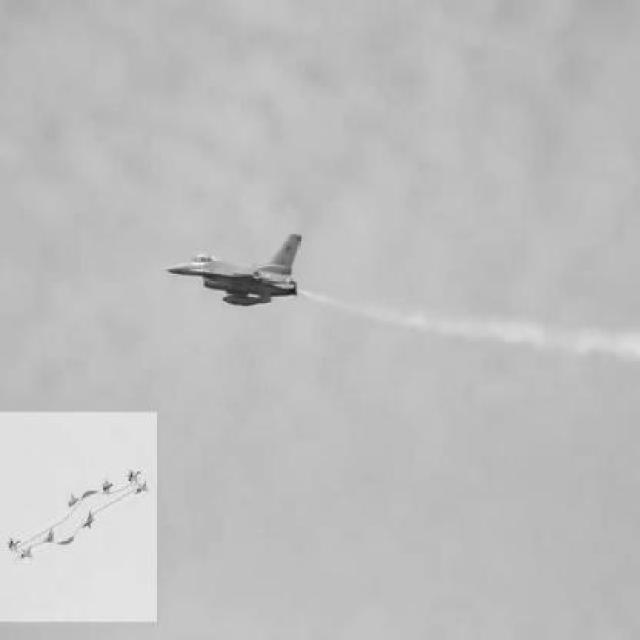Airplane: (167, 231, 304, 309)
